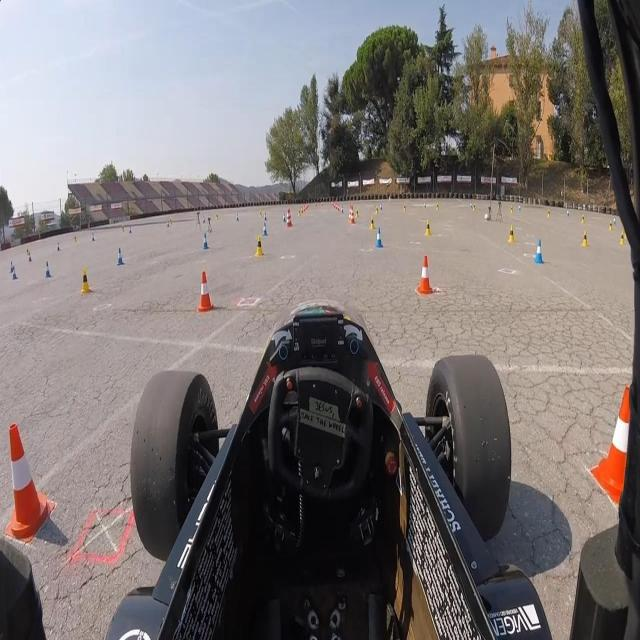blue_cone: (534, 239, 544, 265), (375, 229, 383, 250), (45, 260, 52, 280), (118, 247, 124, 266), (203, 234, 208, 250), (264, 222, 268, 237), (10, 260, 14, 273), (12, 268, 16, 280), (57, 242, 61, 252), (28, 252, 32, 262), (128, 225, 132, 234), (92, 231, 95, 243), (283, 212, 286, 222), (166, 220, 170, 227), (341, 206, 344, 215), (236, 213, 239, 222), (567, 210, 570, 218), (613, 218, 616, 226), (264, 212, 267, 220), (202, 215, 205, 223), (519, 205, 521, 215), (380, 203, 382, 210)
large_orange_cone: (288, 208, 294, 227), (286, 209, 291, 226), (350, 206, 355, 223), (348, 204, 352, 224)
orange_cone: (5, 426, 56, 542), (589, 364, 622, 502), (196, 272, 214, 313), (416, 257, 434, 293), (303, 205, 306, 212), (338, 205, 340, 212), (336, 203, 338, 210), (301, 207, 303, 214)
yellow_cone: (81, 268, 91, 295), (256, 236, 264, 256), (508, 225, 515, 245), (582, 229, 589, 248), (424, 220, 431, 237), (370, 216, 376, 230), (618, 231, 624, 244), (608, 219, 612, 231), (356, 208, 360, 218), (582, 214, 586, 224), (375, 205, 379, 214), (74, 236, 78, 244), (298, 209, 301, 219), (121, 225, 125, 232), (259, 209, 262, 217), (403, 205, 406, 212), (436, 203, 439, 210), (511, 206, 514, 213), (27, 248, 29, 256), (170, 218, 172, 226), (473, 203, 475, 211), (216, 213, 218, 220), (548, 210, 550, 217)
